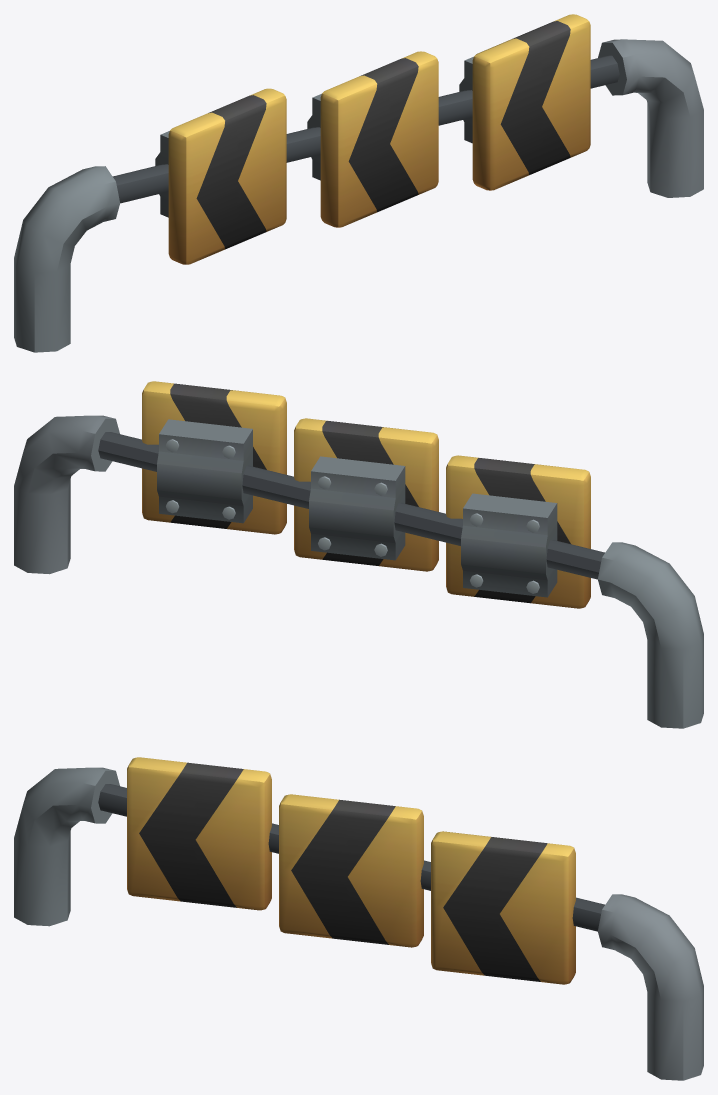
File: kit-arah-kiri.glb
3 views of the same model, one above another, from view 1: azimuth 30°, elevation 25°; view 2: azimuth 150°, elevation 25°; view 3: azimuth 330°, elevation 25° (orthographic).
Visible parts, largest first — view 1: signage_arrows_left; view 2: signage_arrows_left; view 3: signage_arrows_left.
Part boxes in pixels (left/top/right/bottom): signage_arrows_left: left=14, top=14, right=703, bottom=352; signage_arrows_left: left=14, top=381, right=703, bottom=728; signage_arrows_left: left=14, top=757, right=703, bottom=1080.
Size of the model in its own units: 4.68 by 1.3 by 0.5868.
1 material, 1 textured.
